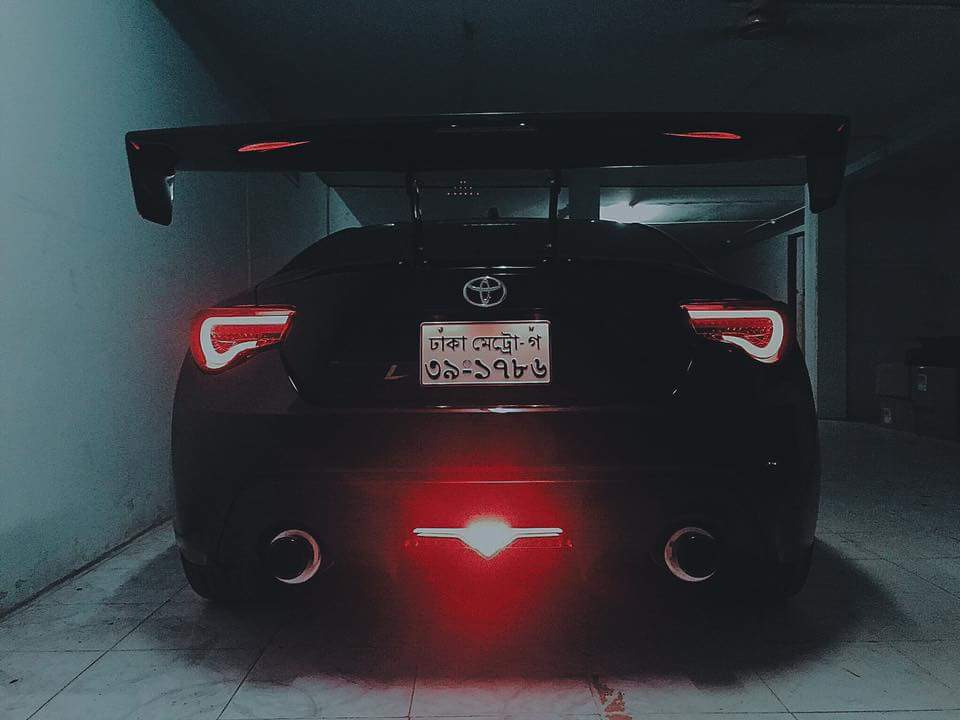registration_plate: (417, 318, 551, 386)
